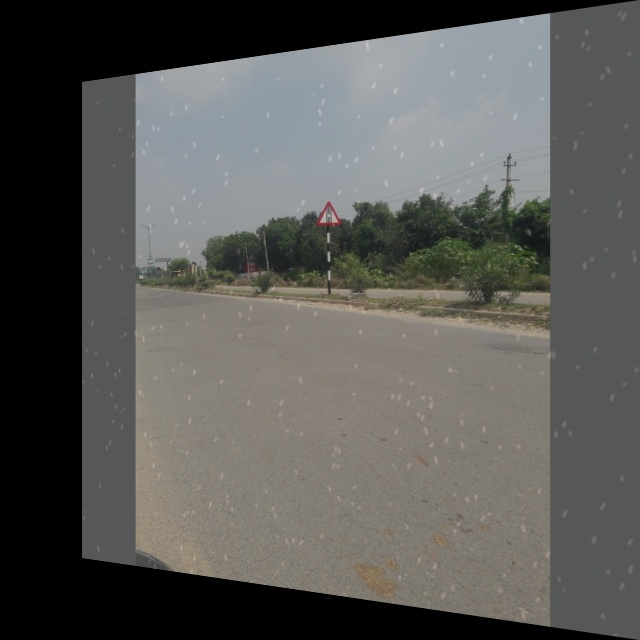Gap_in_Median: (312, 195, 347, 229)
